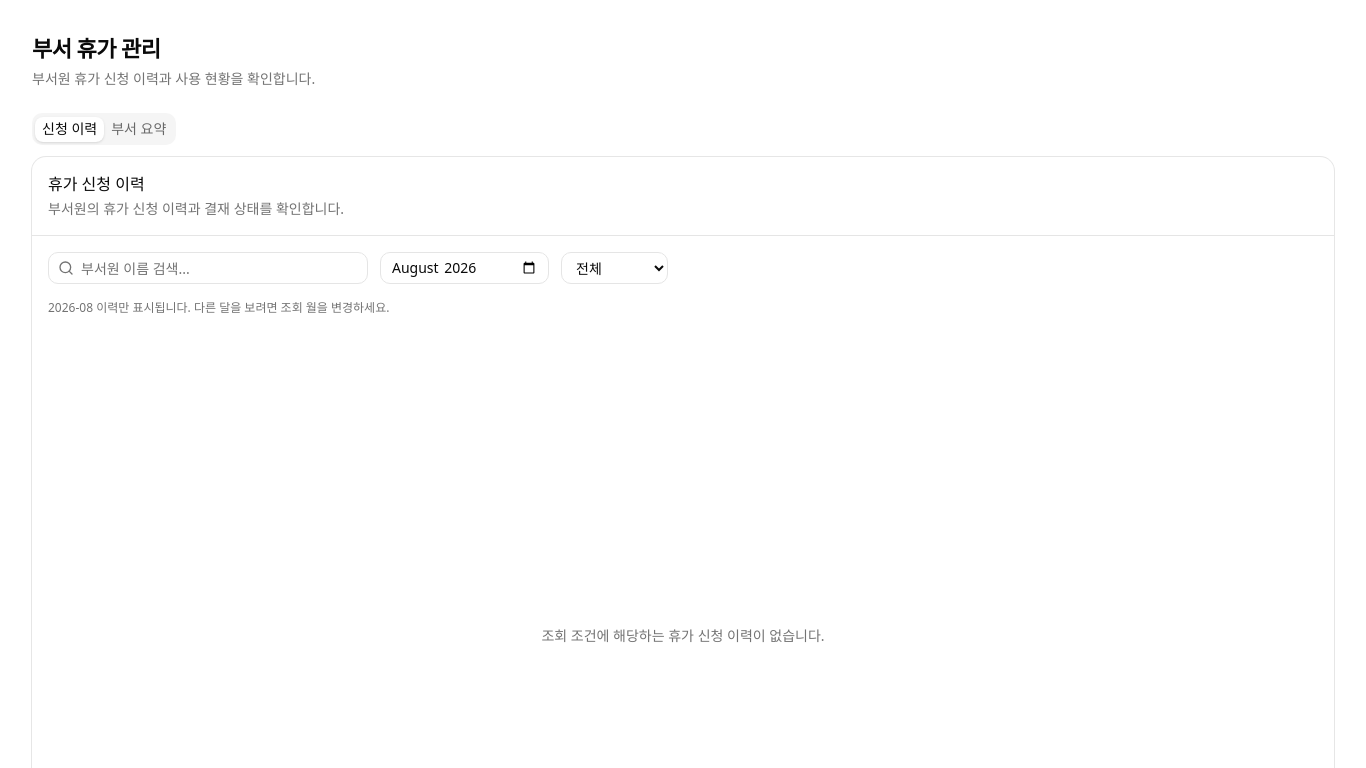
DeptLeavePage (F745/F746) - 탭② 부서 요약 › 탭② 클릭 시 사용률 카드와 부서원 요약표(잔여=부여-사용)가 렌더된다
Expected: the text "조회 조건에 해당하는 휴가 신청 이력이 없습니다." is shown, [541, 626, 825, 645]
What coordinates should you click on to do the following:
click the tab "부서 요약"
I would click on:
 (139, 129)
Its box is [104, 116, 173, 142].
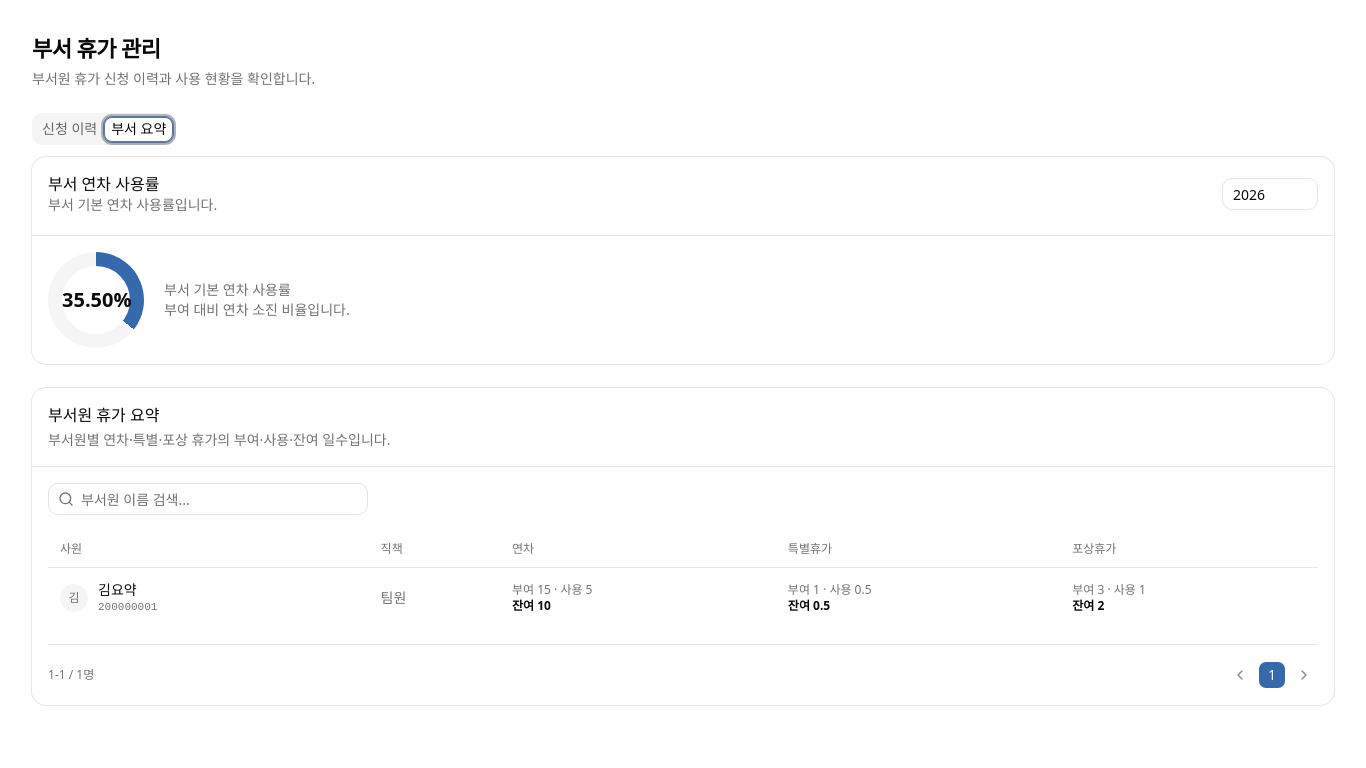
Expected: the text "35.50%" is shown, [62, 286, 132, 314]
Expected: the text "김요약" is shown, [98, 580, 137, 599]
Expected: the text "잔여 10" is shown, [512, 597, 551, 614]
